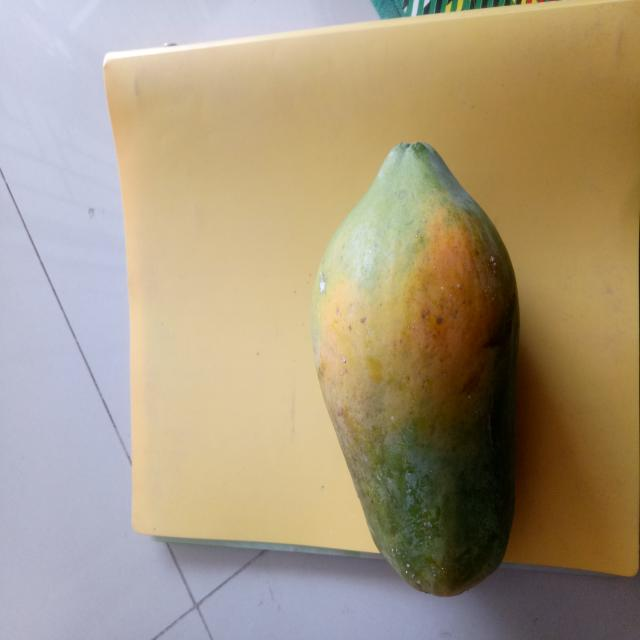Pepaya rippen: (295, 140, 542, 610)
